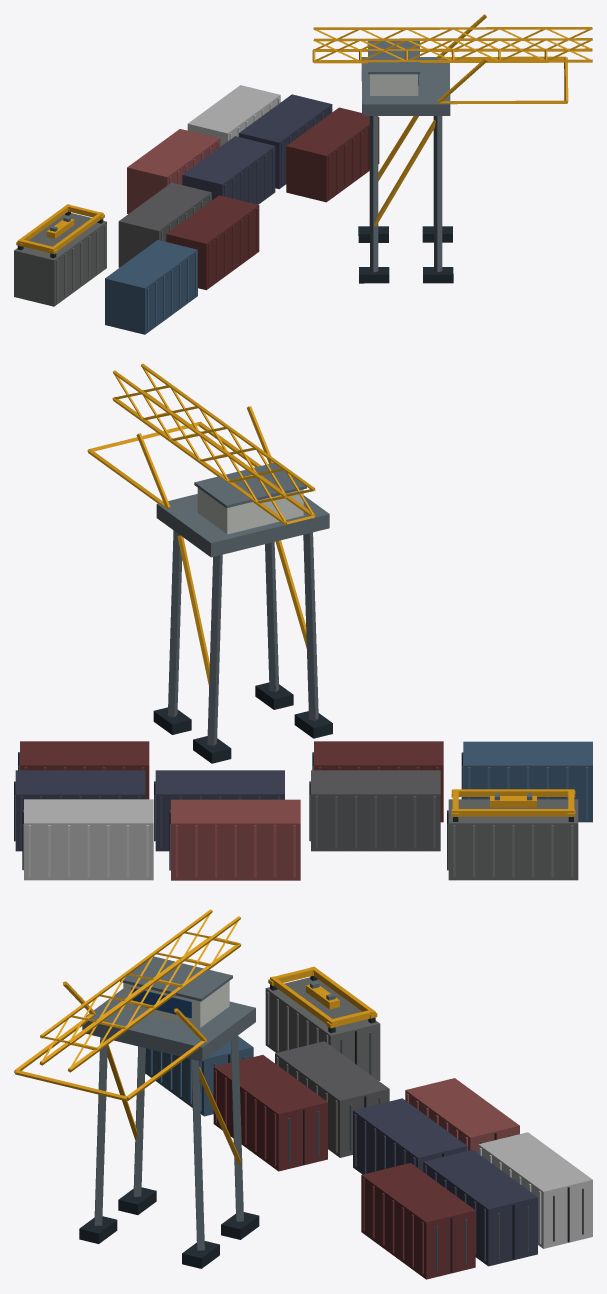
The model's file is gantry-crane-ne-sw-03.glb.
3 renders of one model, top to bottom at view 1: azimuth 30°, elevation 25°; view 2: azimuth 150°, elevation 25°; view 3: azimuth 270°, elevation 25°, orthographic. The views are drawn at different scales.
Visible parts, largest first — view 1: gantry-crane-ne-sw-03; view 2: gantry-crane-ne-sw-03; view 3: gantry-crane-ne-sw-03.
Part boxes in pixels (bbox=[...]): gantry-crane-ne-sw-03: bbox=[14, 14, 592, 334]; gantry-crane-ne-sw-03: bbox=[14, 363, 592, 880]; gantry-crane-ne-sw-03: bbox=[14, 909, 592, 1279].
Size of the model in its own units: 69.1 by 31.18 by 58.77.
